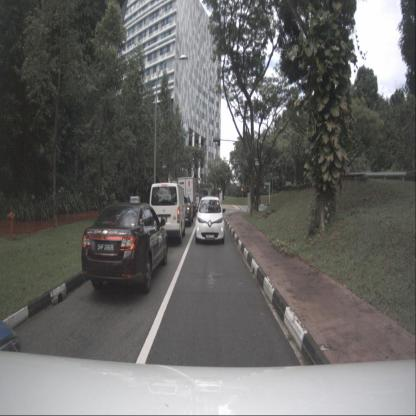vehicle-car: (81, 203, 168, 294), (149, 182, 185, 244), (195, 196, 225, 244), (173, 194, 194, 228), (192, 196, 201, 212)
vehicle-truck: (177, 177, 196, 217)
